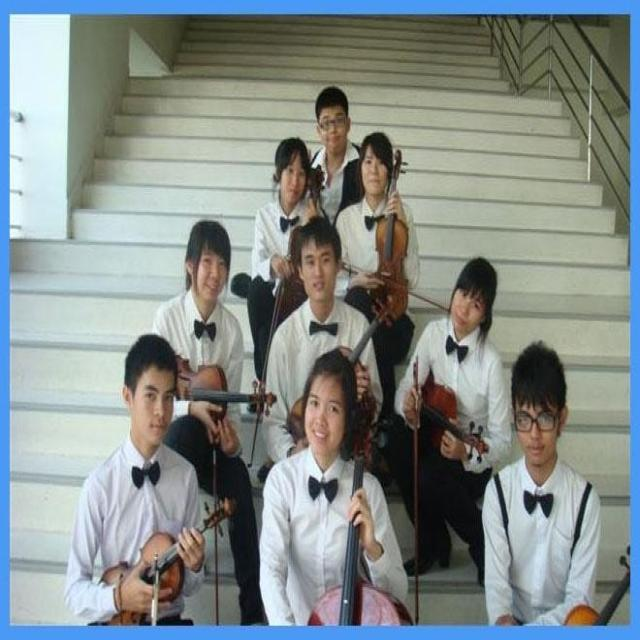cello: (304, 390, 415, 628)
violin: (100, 492, 235, 627), (368, 150, 417, 327), (276, 163, 328, 320), (169, 350, 278, 424), (420, 374, 492, 462)
